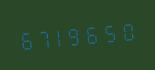five: (102, 17, 118, 46)
nine: (68, 20, 84, 49)
one: (51, 22, 67, 50)
seven: (34, 23, 50, 52)
six: (17, 25, 33, 53), (85, 19, 101, 47)
zero: (119, 16, 135, 44)
